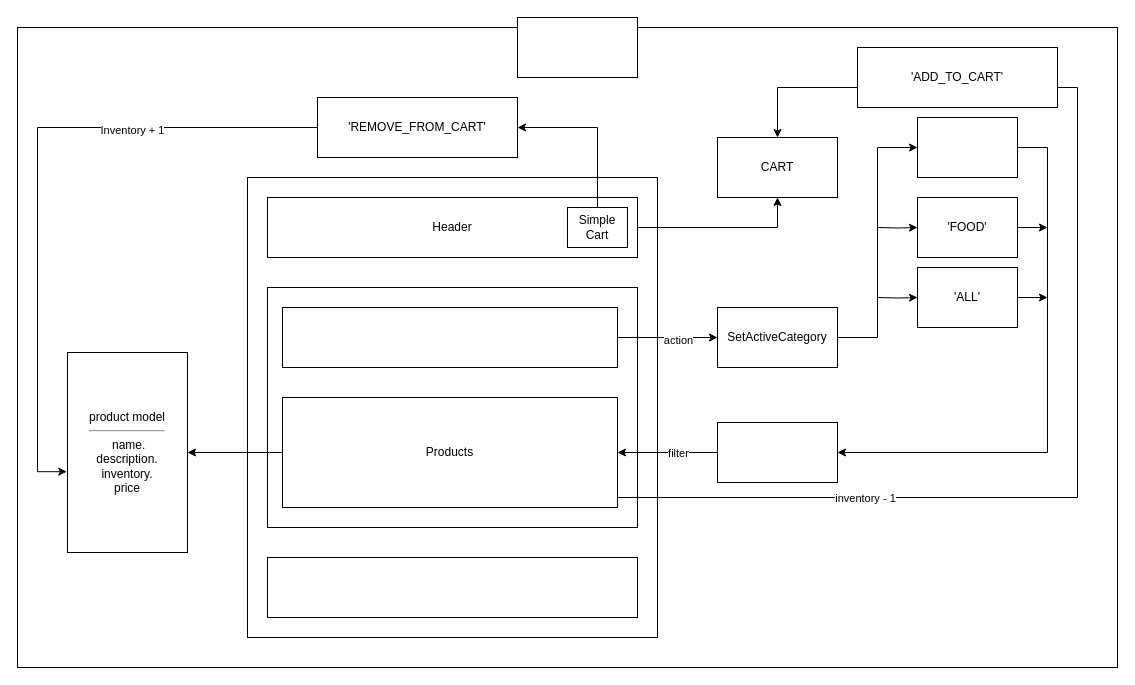
The diagram is 1135 pixels wide and 685 high, and some of its shapes have lost their labels. Each missing label, with the centre of its shape:
"'ELECTRONICS'" belongs at (967,147).
"Categories" belongs at (450,337).
"Footer" belongs at (452,587).
"new Active" belongs at (777,452).
"Store Front" belongs at (577,47).
